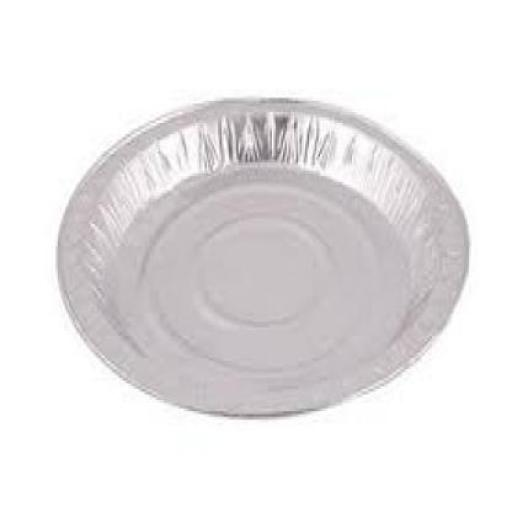metal: (54, 95, 470, 417)
